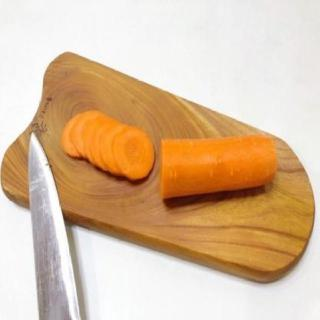carrot: (153, 132, 279, 208)
